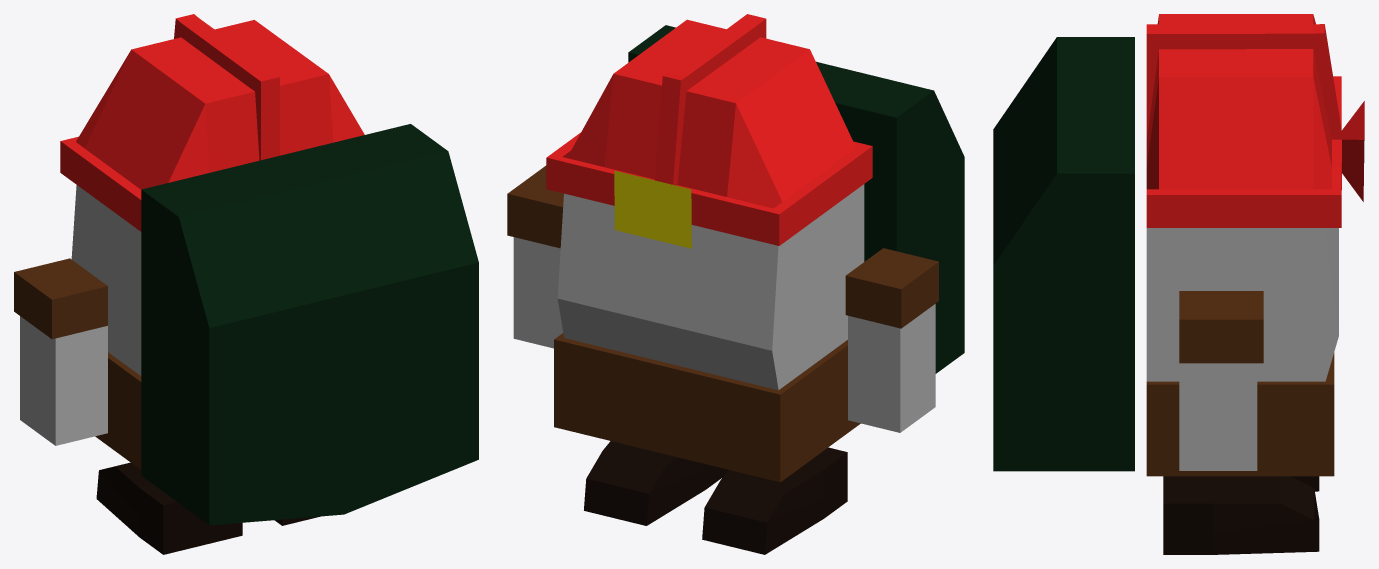
Rendered from player1.fbx.
The picture shows the model from 3 angles, left to right: view 1: azimuth 30°, elevation 25°; view 2: azimuth 150°, elevation 25°; view 3: azimuth 270°, elevation 25°; orthographic projection. The views are drawn at different scales.
Parts seen in each view (by area): view 1: Plane.001; view 2: Plane.001; view 3: Plane.001.
Part boxes in pixels (bbox=[...]): Plane.001: bbox=[14, 14, 478, 554]; Plane.001: bbox=[507, 14, 964, 554]; Plane.001: bbox=[993, 14, 1364, 554].
Size of the model in its own units: 367 by 407 by 287.
